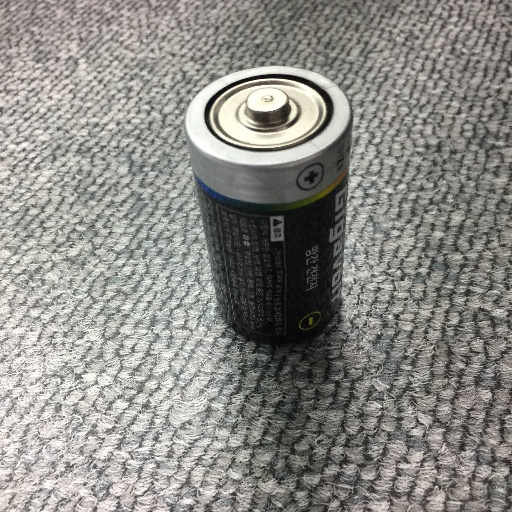Battery_0: (176, 52, 366, 362)
